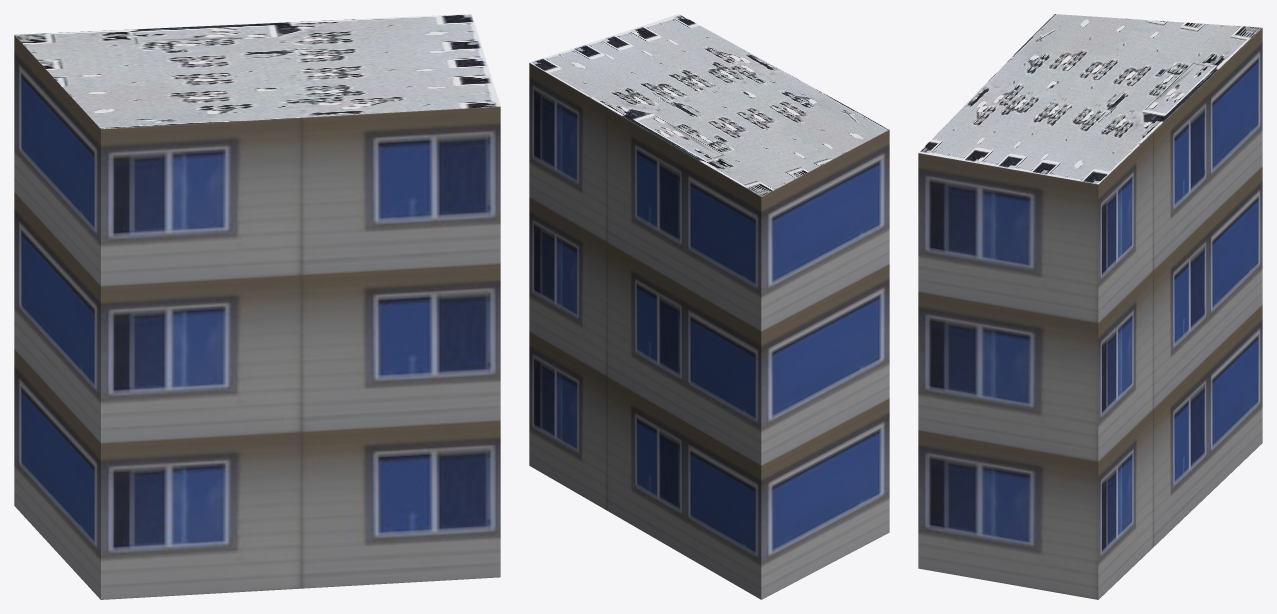
File: ResTex__2545.fbx
The picture shows the model from 3 angles, left to right: view 1: azimuth 30°, elevation 25°; view 2: azimuth 150°, elevation 25°; view 3: azimuth 270°, elevation 25°; orthographic projection. The views are drawn at different scales.
Parts seen in each view (by area): view 1: CityEngineMaterial_23_m, CityEngineMaterial_2_m; view 2: CityEngineMaterial_23_m, CityEngineMaterial_2_m; view 3: CityEngineMaterial_23_m, CityEngineMaterial_2_m.
Boxes of the visible parts, bbox=[...] form: CityEngineMaterial_23_m: bbox=[14, 35, 500, 599]; CityEngineMaterial_2_m: bbox=[14, 14, 500, 128]; CityEngineMaterial_23_m: bbox=[529, 63, 889, 599]; CityEngineMaterial_2_m: bbox=[530, 14, 889, 196]; CityEngineMaterial_23_m: bbox=[918, 28, 1262, 599]; CityEngineMaterial_2_m: bbox=[919, 14, 1261, 184].
Size of the model in its own units: 7.92 by 9 by 6.76.
Materials: 2 (2 with a texture image).
